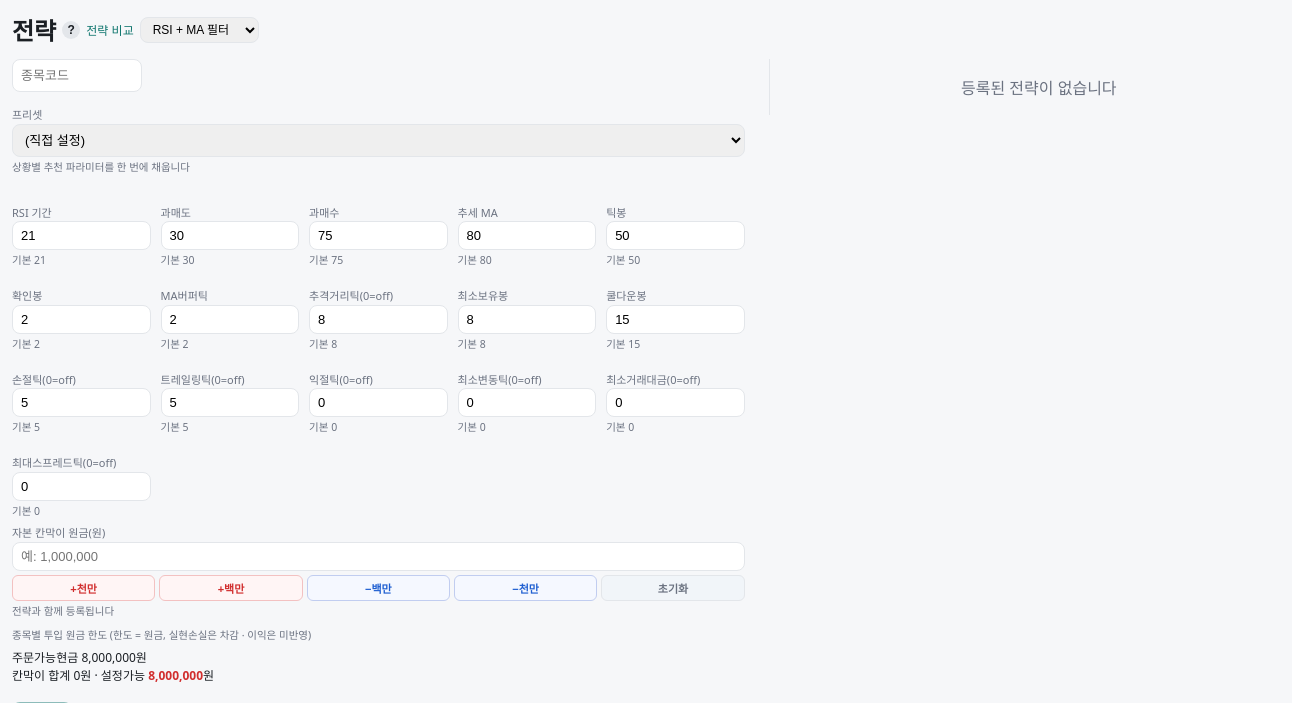
Test case: StrategyPanel › +버튼이 설정가능금액(최대)을 넘으면 최대로 고정
Click the button "+천만". click: [84, 588]
box: [12,574,155,600]
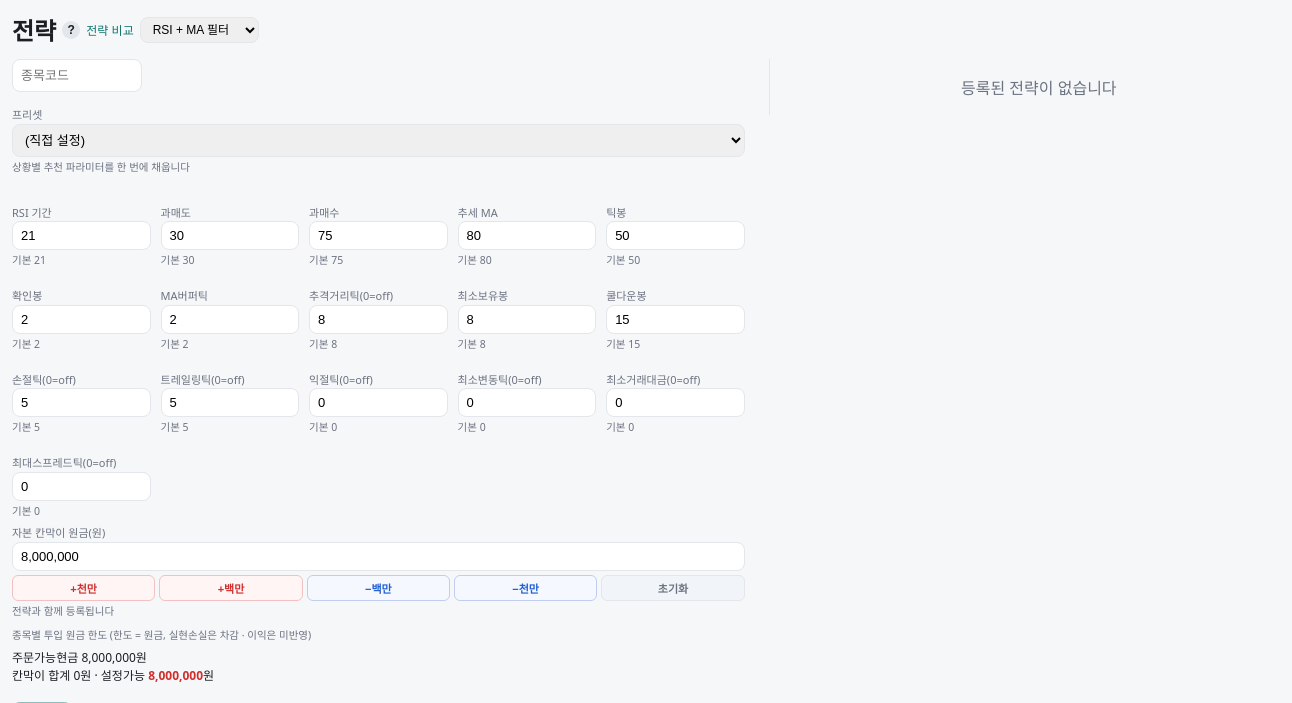
Check: the field labelled "자본 칸막이 원금" holds "8,000,000", box [12,542,745,570]
